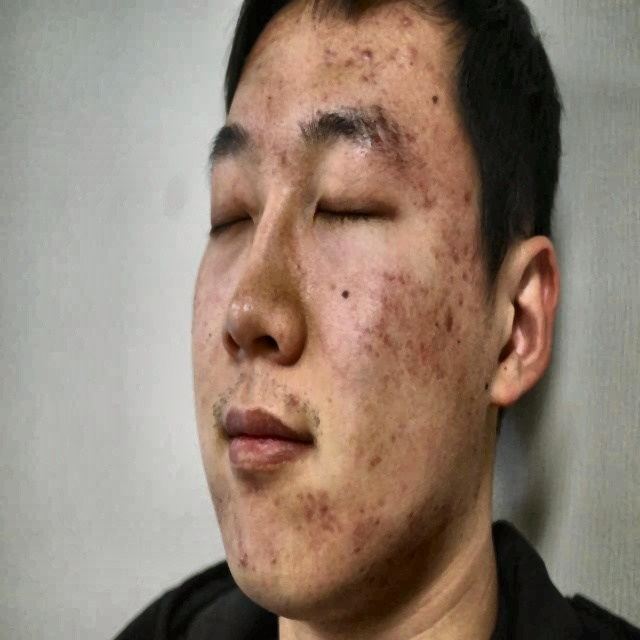pustule: (400, 115, 421, 162), (315, 493, 344, 527), (387, 260, 410, 291), (436, 304, 458, 335), (456, 242, 476, 276), (237, 545, 256, 573), (358, 40, 374, 69), (405, 43, 422, 66), (402, 15, 412, 40), (340, 49, 350, 70)
